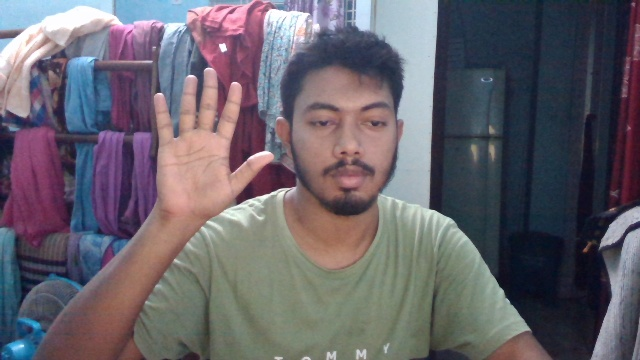hello: (146, 66, 275, 218)
